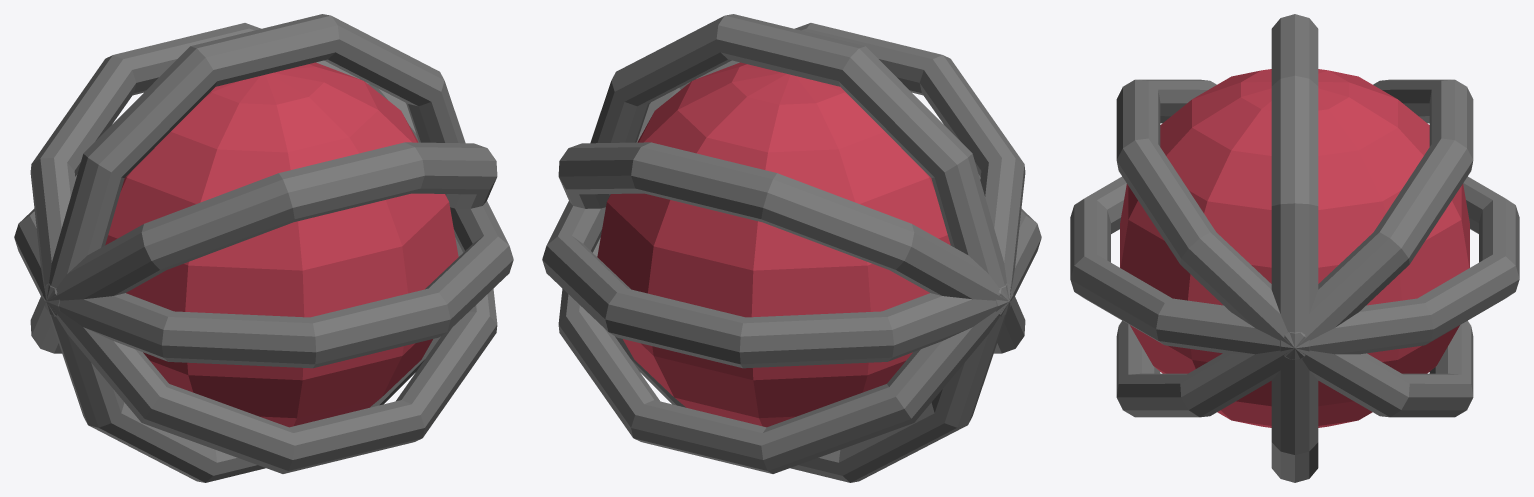
The model's file is Projectile.fbx.
3 views of the same model, side by side, from view 1: azimuth 30°, elevation 25°; view 2: azimuth 150°, elevation 25°; view 3: azimuth 270°, elevation 25° (orthographic). The views are drawn at different scales.
Visible parts, largest first — view 1: pSphere2; view 2: pSphere2; view 3: pSphere2.
Boxes of the visible parts, x1,y1,x2,y2 form: pSphere2: (14,14,513,482); pSphere2: (542,14,1041,482); pSphere2: (1070,14,1519,482).
Size of the model in its own units: 7.7 by 7.32 by 7.32.
